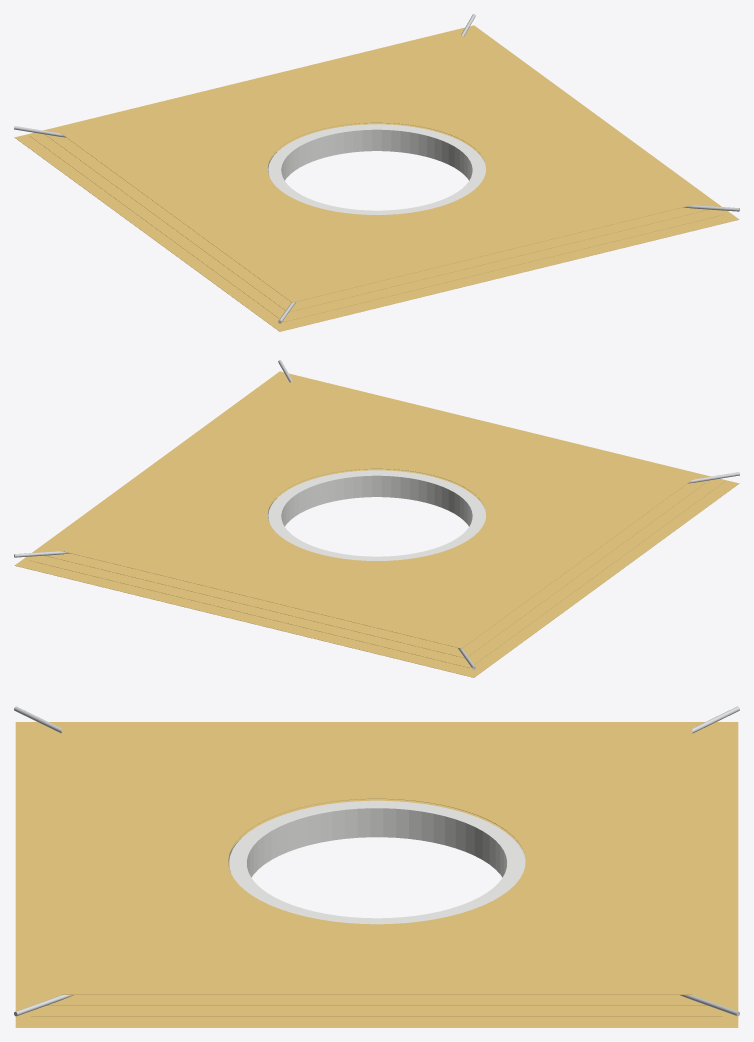
File: ax_util_30_sunshade_l_deployed.glb
3 views of the same model, one above another, from view 1: azimuth 30°, elevation 25°; view 2: azimuth 150°, elevation 25°; view 3: azimuth 270°, elevation 25° (orthographic). The views are drawn at different scales.
Parts seen in each view (by area): view 1: membrane_layers, canister_ring, booms; view 2: membrane_layers, canister_ring, booms; view 3: membrane_layers, canister_ring, booms.
Boxes of the visible parts, x1,y1,x2,y2 form: membrane_layers: (14, 25, 739, 331); canister_ring: (268, 124, 485, 214); booms: (14, 14, 739, 323); membrane_layers: (14, 371, 739, 677); canister_ring: (268, 470, 485, 560); booms: (14, 360, 739, 669); membrane_layers: (15, 722, 738, 1027); canister_ring: (228, 800, 525, 924); booms: (14, 706, 739, 1016).
Size of the model in its own units: 9.06 by 0.455 by 9.06.
